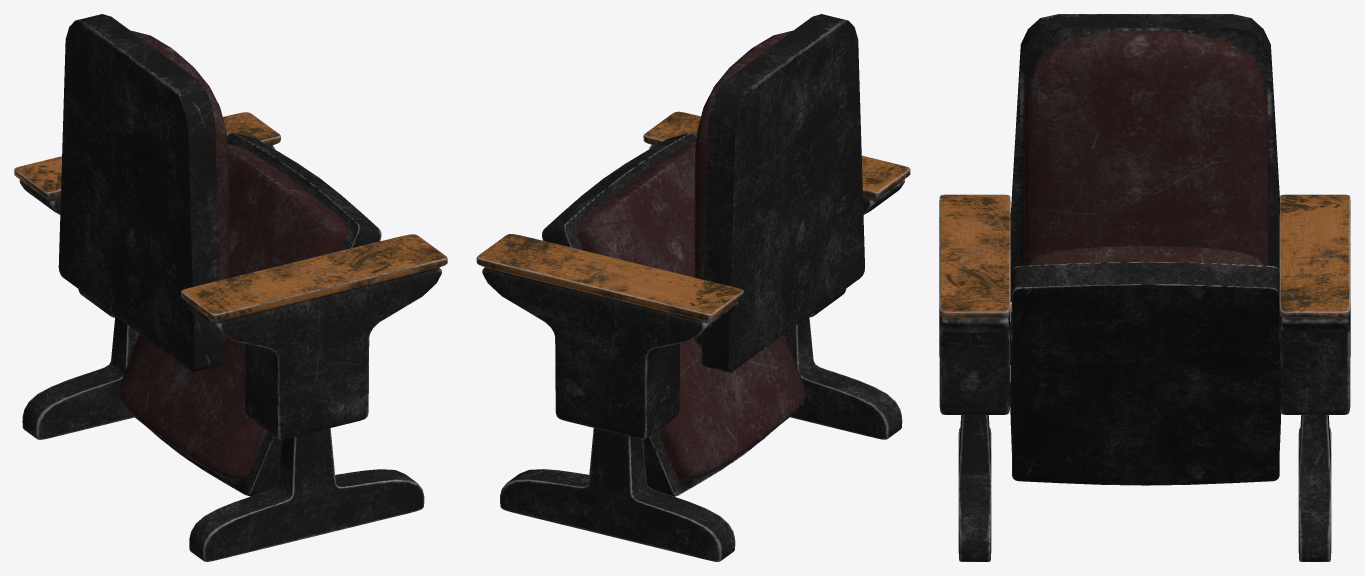
The model's file is cadeira retratil fechado.fbx.
3 renders of one model, left to right at view 1: azimuth 30°, elevation 25°; view 2: azimuth 150°, elevation 25°; view 3: azimuth 270°, elevation 25°, orthographic.
Visible parts, largest first — view 1: Cube.004; view 2: Cube.004; view 3: Cube.004.
Boxes of the visible parts, x1,y1,x2,y2 form: Cube.004: (14,14,447,561); Cube.004: (476,14,910,561); Cube.004: (939,14,1350,561).
Size of the model in its own units: 50.79 by 90 by 75.
